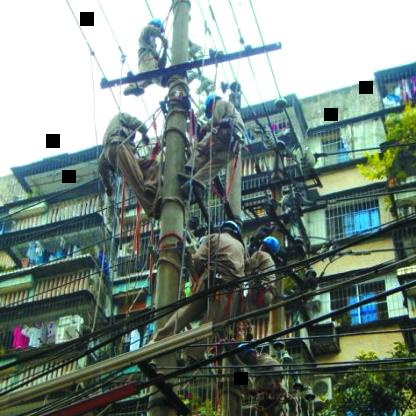helmet: (218, 217, 244, 247), (235, 342, 262, 366), (204, 92, 226, 119), (257, 236, 281, 258), (146, 17, 164, 37)
